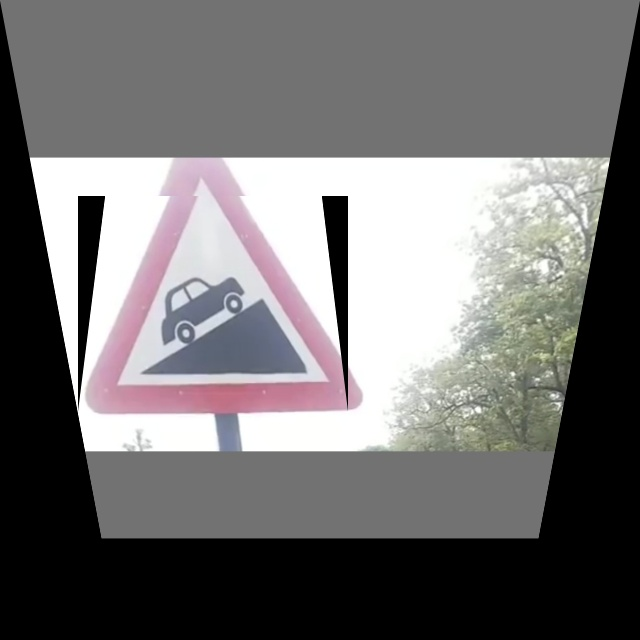Steep_Ascent: (78, 196, 348, 412)
